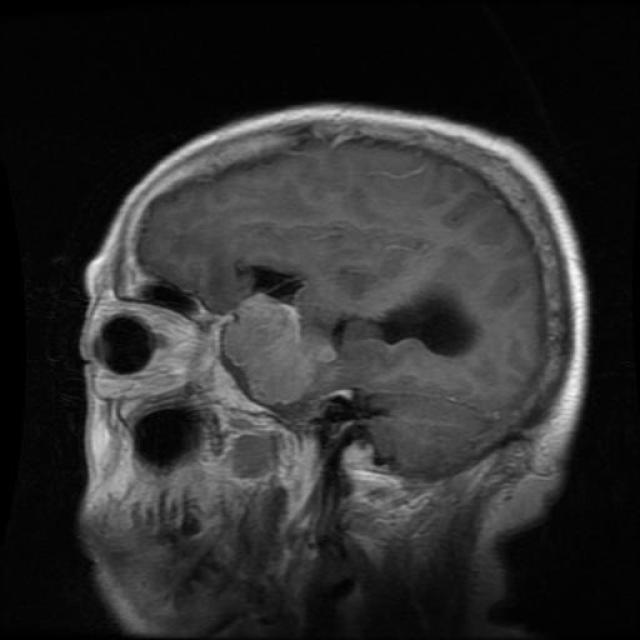meningioma: (221, 294, 315, 406)
